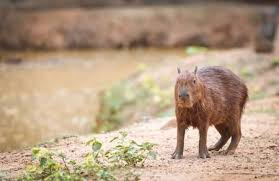capivara: (174, 65, 248, 160)
